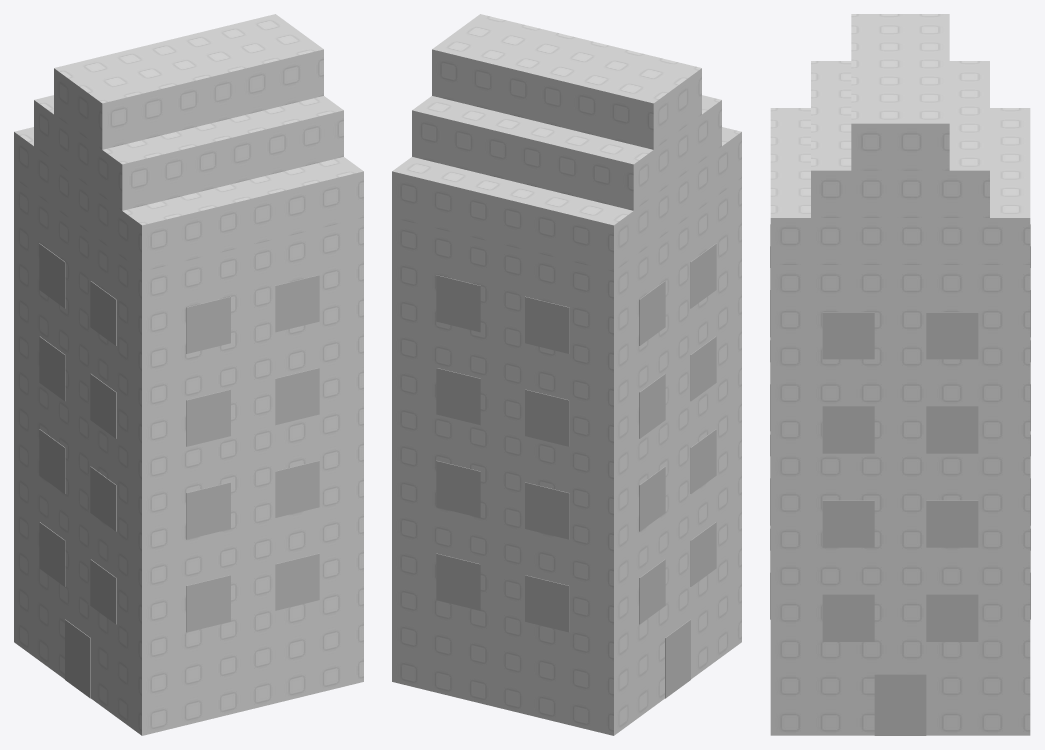
File: 4FloorC.FBX
The picture shows the model from 3 angles, left to right: view 1: azimuth 30°, elevation 25°; view 2: azimuth 150°, elevation 25°; view 3: azimuth 270°, elevation 25°; orthographic projection.
Parts seen in each view (by area): view 1: qiang, wuding, chuang, men; view 2: qiang, wuding, chuang, men; view 3: qiang, wuding, chuang, men.
Part boxes in pixels (box(x1,y1,x2,y2)): qiang: box(14, 178, 363, 735); wuding: box(14, 14, 363, 271); chuang: box(39, 243, 319, 632); men: box(65, 619, 90, 698); qiang: box(392, 178, 741, 735); wuding: box(392, 14, 741, 271); chuang: box(436, 243, 716, 632); men: box(665, 619, 690, 698); qiang: box(770, 265, 1030, 735); wuding: box(770, 14, 1030, 264); chuang: box(770, 224, 1030, 641); men: box(874, 674, 926, 735).
Size of the model in its own units: 6.46 by 16.71 by 6.46.
